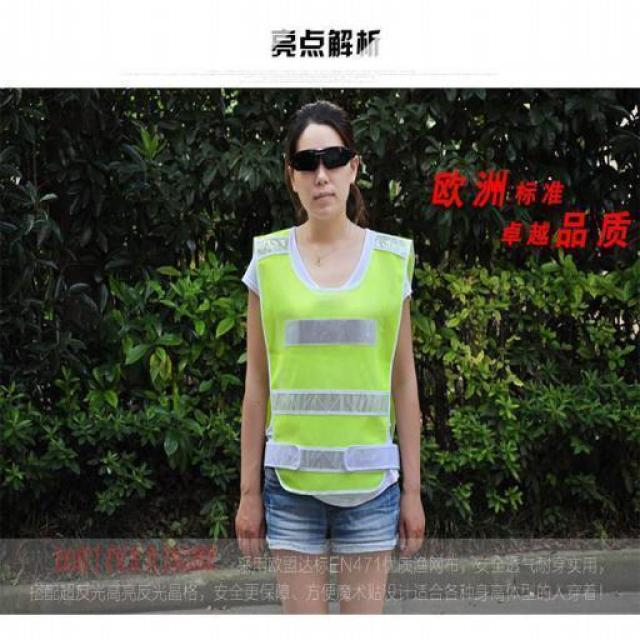face_nomask: (286, 142, 352, 214)
glasses: (284, 142, 358, 176)
hand_noglove: (227, 492, 275, 566), (391, 494, 431, 558)
head_nohelmet: (282, 96, 360, 138)
person: (234, 91, 441, 611)
vest: (248, 226, 414, 504)
